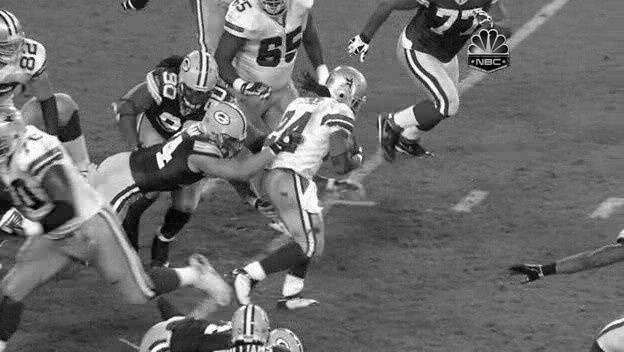person: (328, 65, 364, 111), (327, 65, 363, 111), (329, 65, 365, 111), (328, 64, 364, 110), (328, 66, 364, 112)
target_negative: (458, 225, 584, 295), (523, 251, 591, 302), (511, 87, 567, 146), (488, 190, 526, 272), (125, 16, 214, 37), (15, 340, 363, 342)
